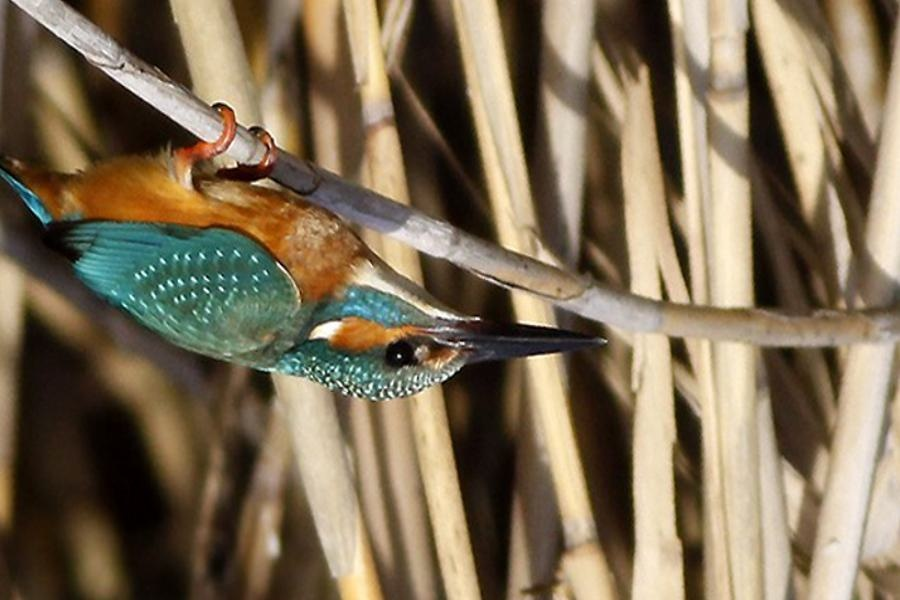kingfisher: (33, 105, 597, 432)
